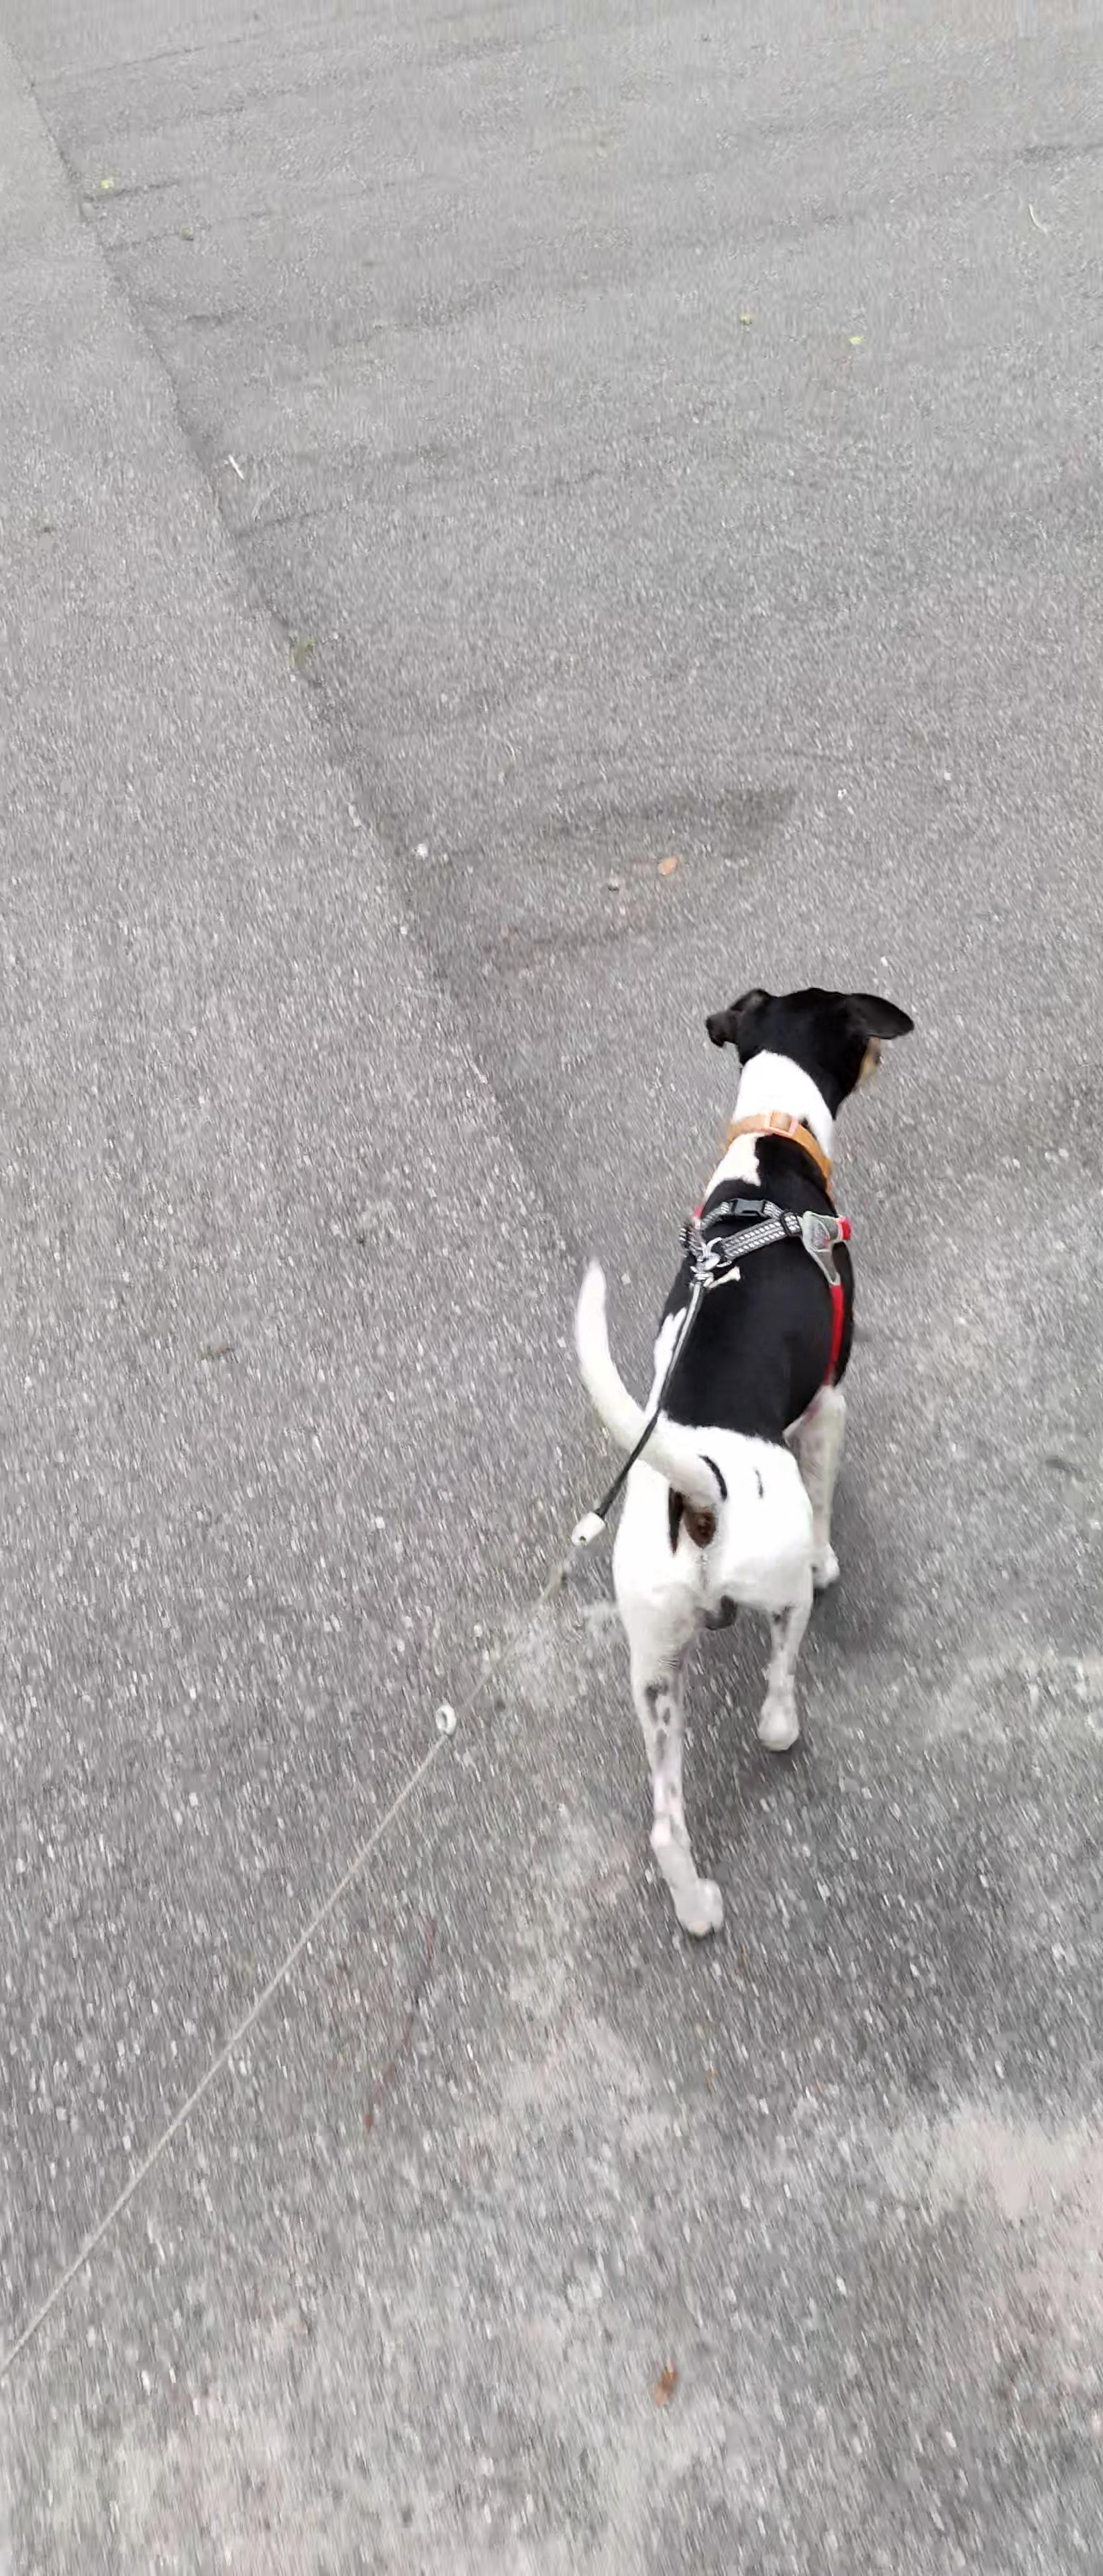Dog: (564, 976, 927, 1947)
